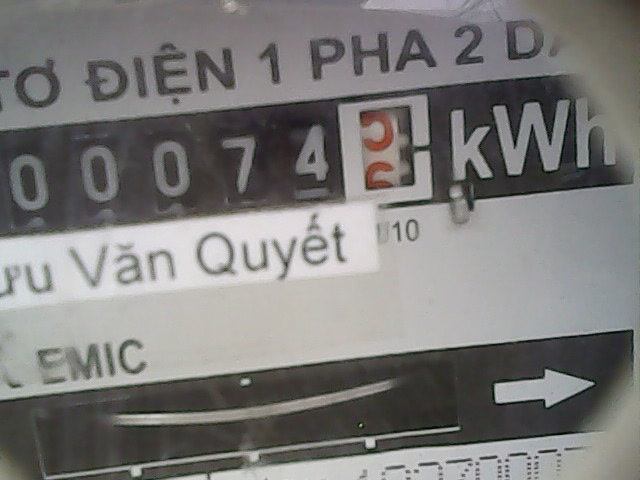phy_plate: (1, 92, 436, 220)
